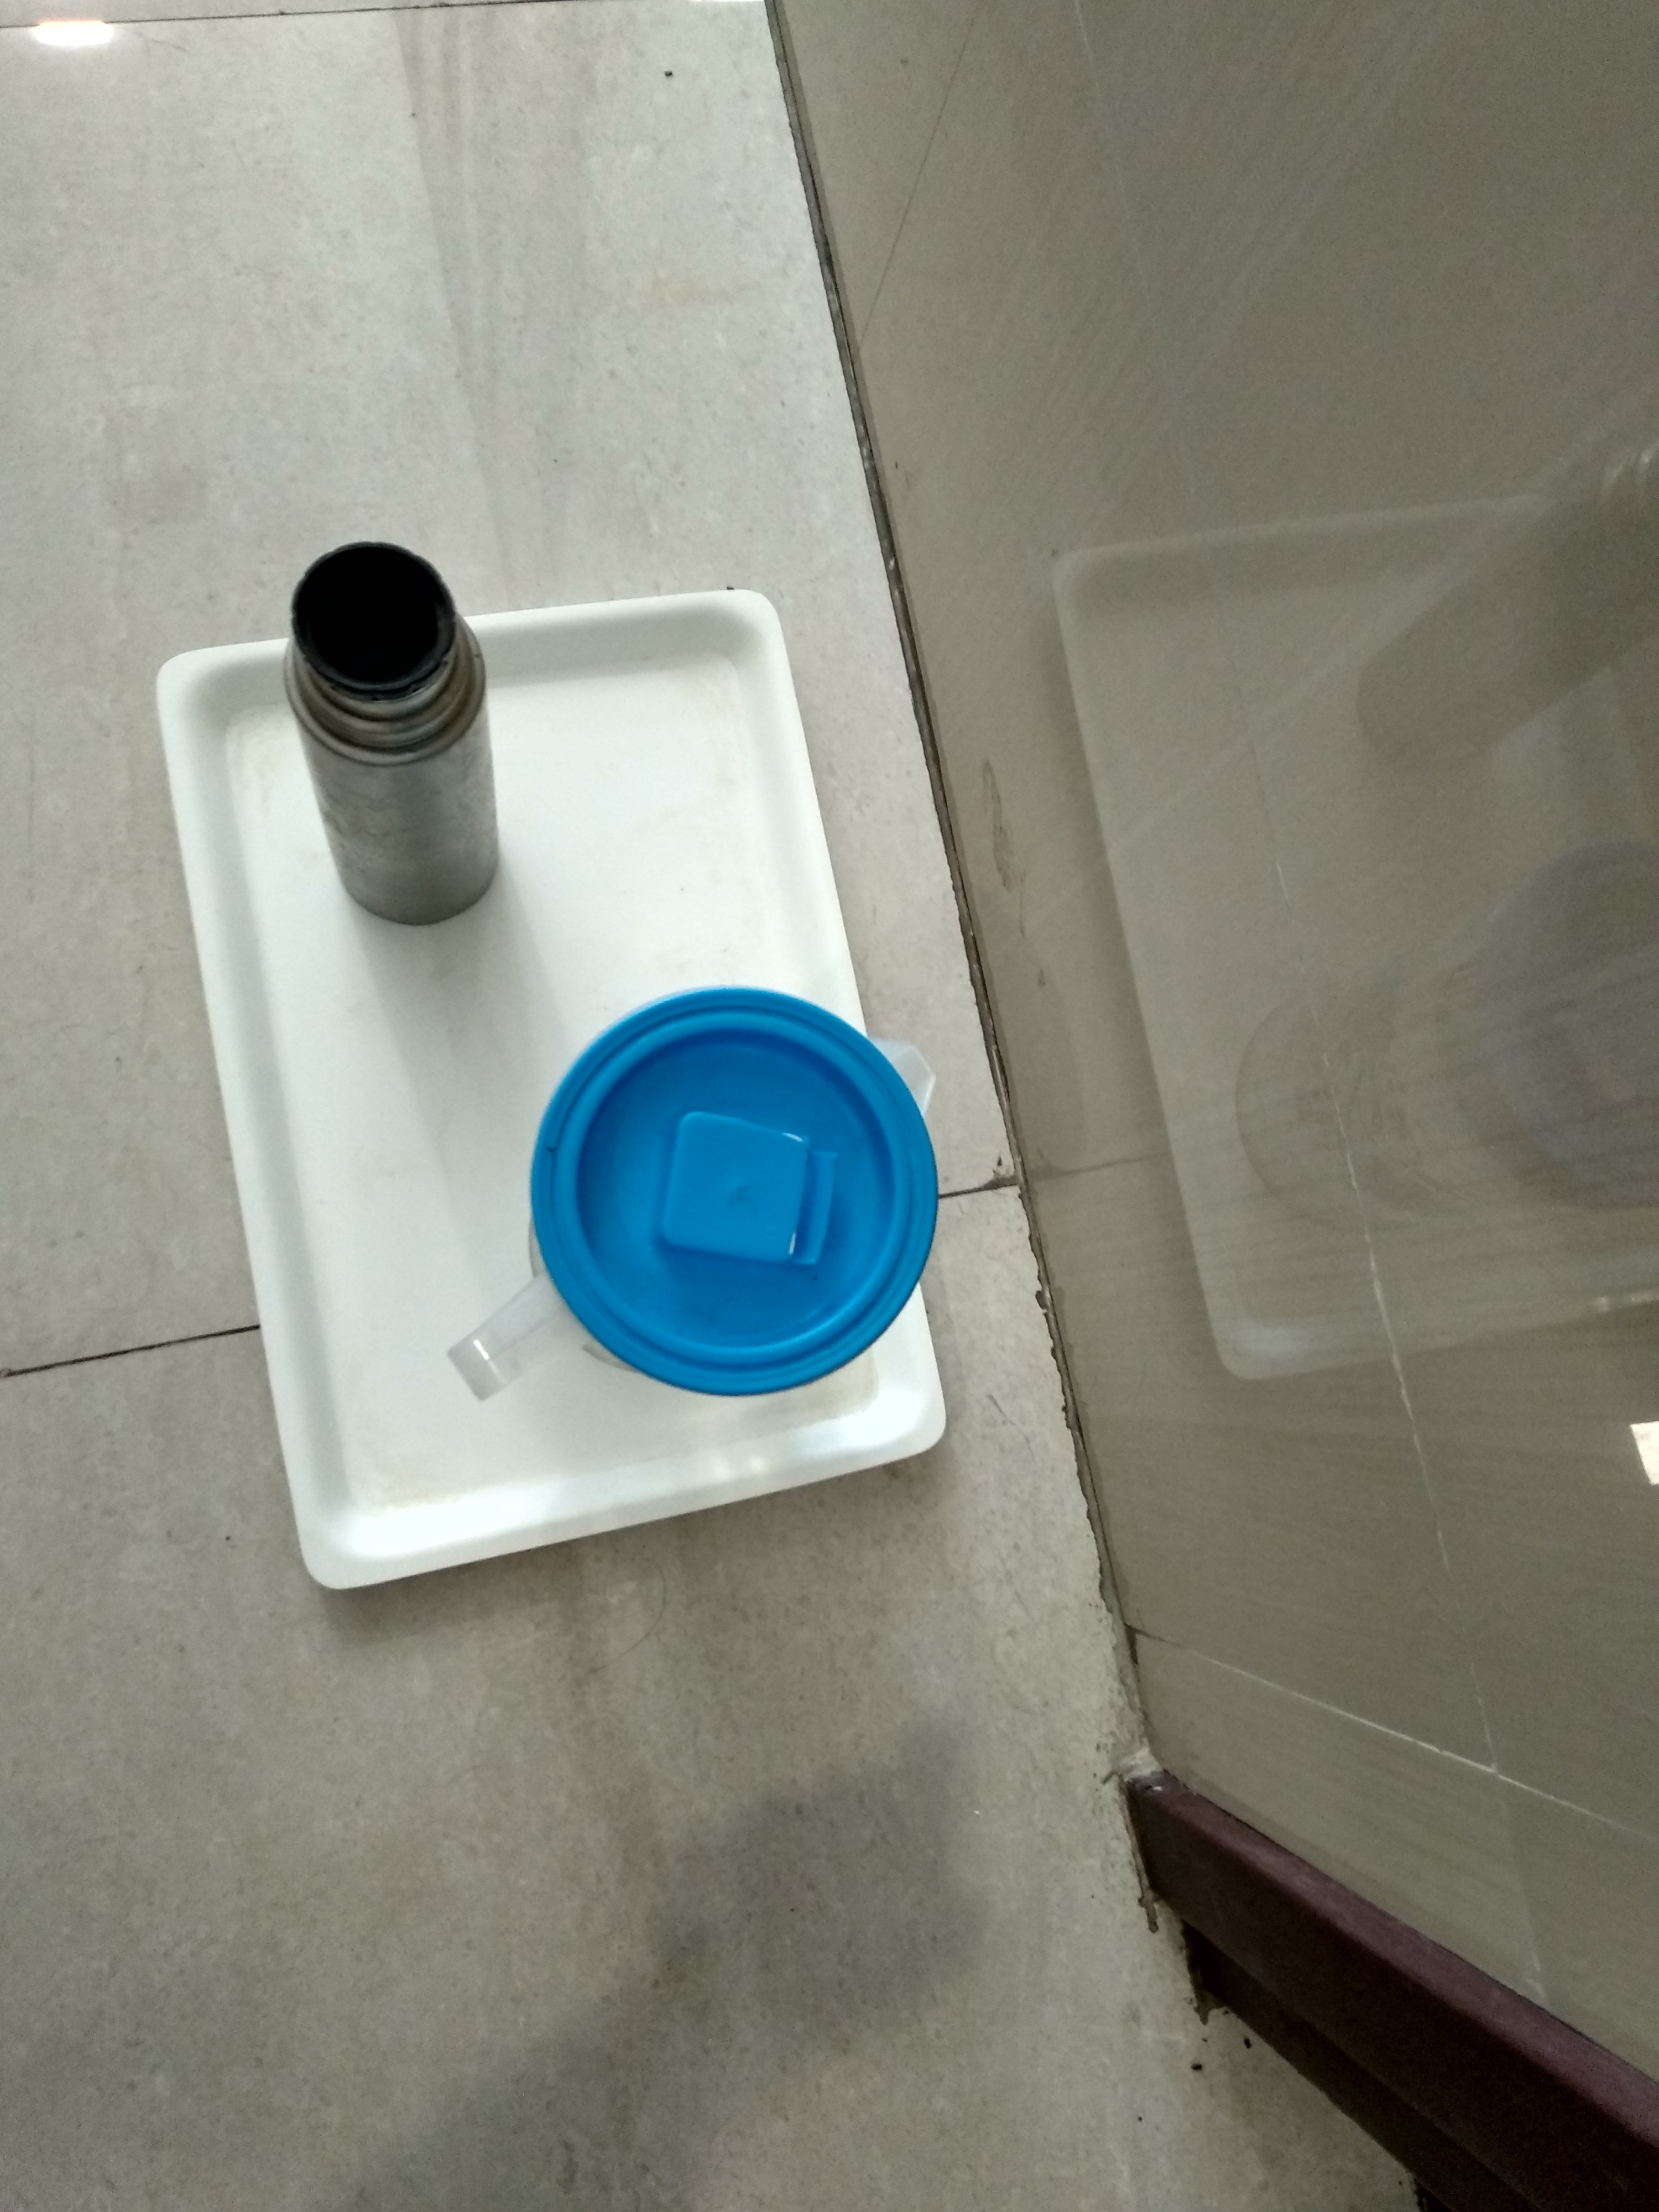FLASK: (239, 481, 629, 975)
JUG: (436, 968, 1012, 1449)
